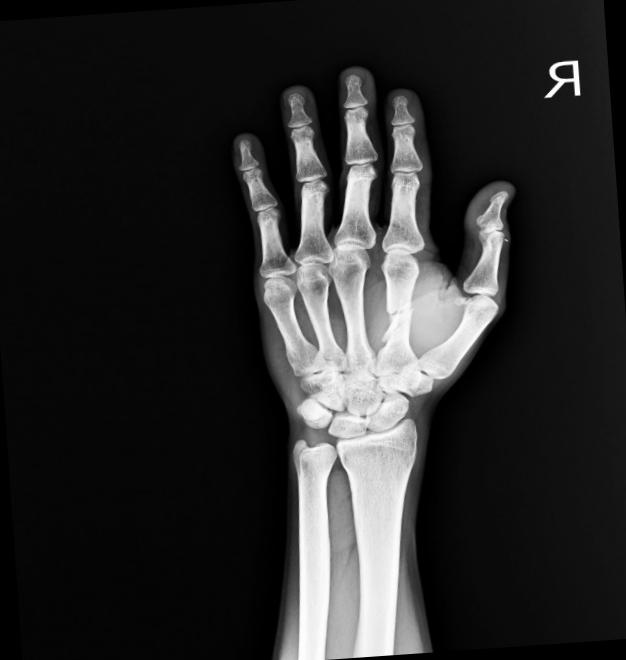fracture: (382, 304, 418, 345)
